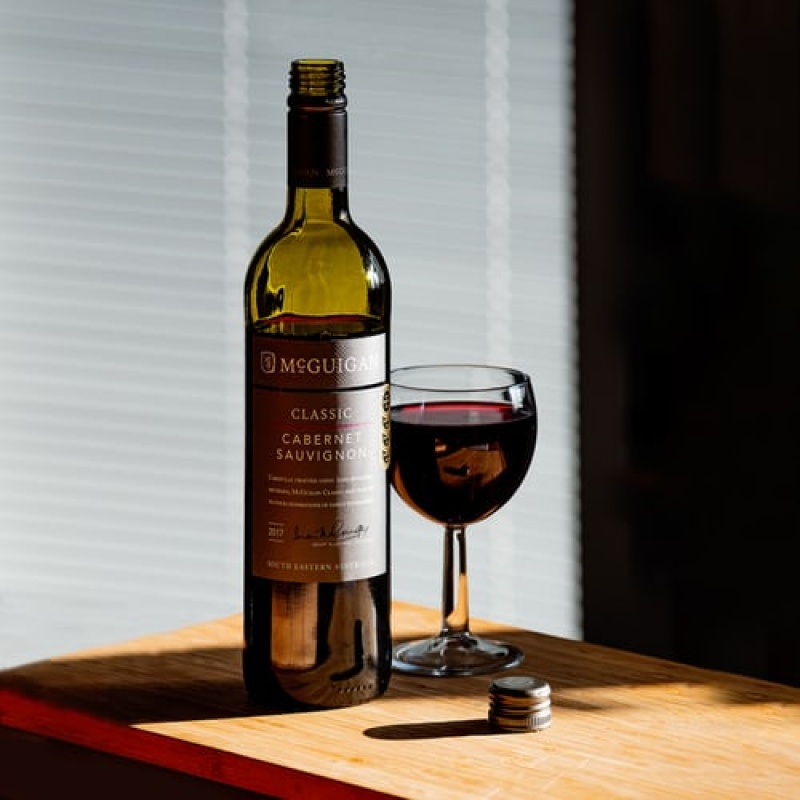wine: (248, 59, 389, 704)
